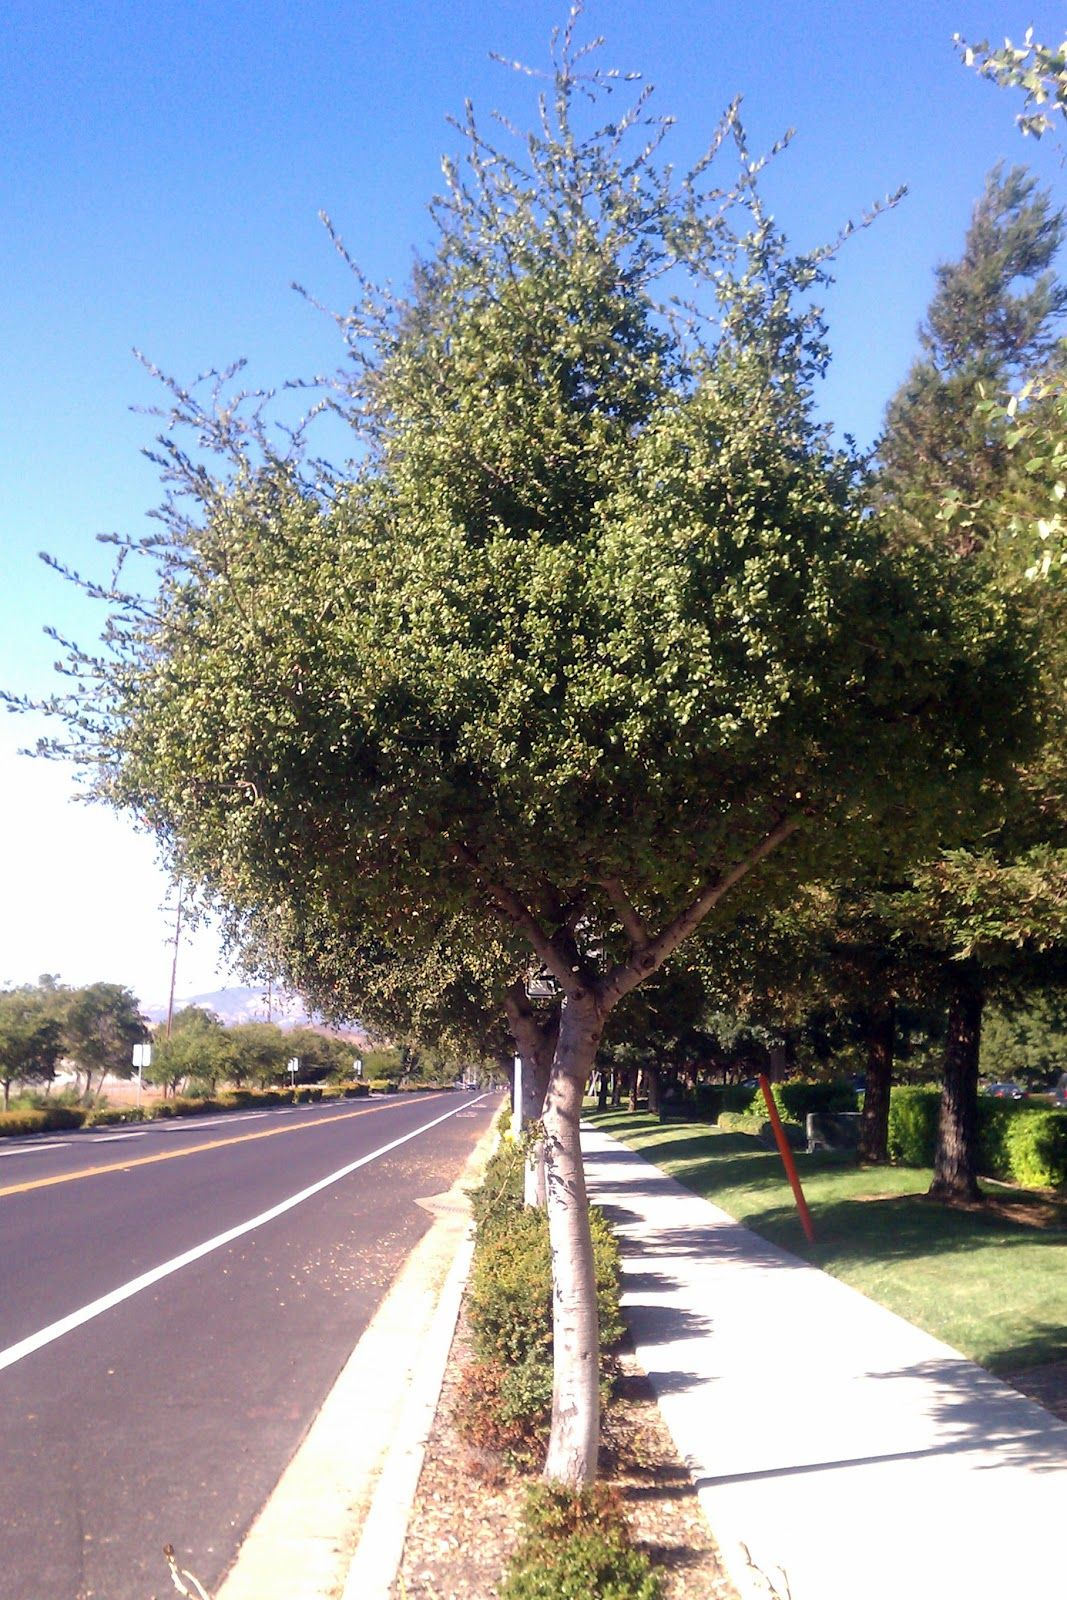tree: (110, 201, 1043, 1519)
